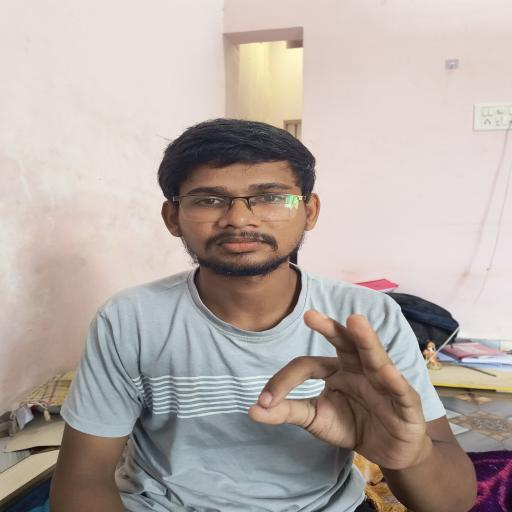Previous: (248, 298, 441, 478)
